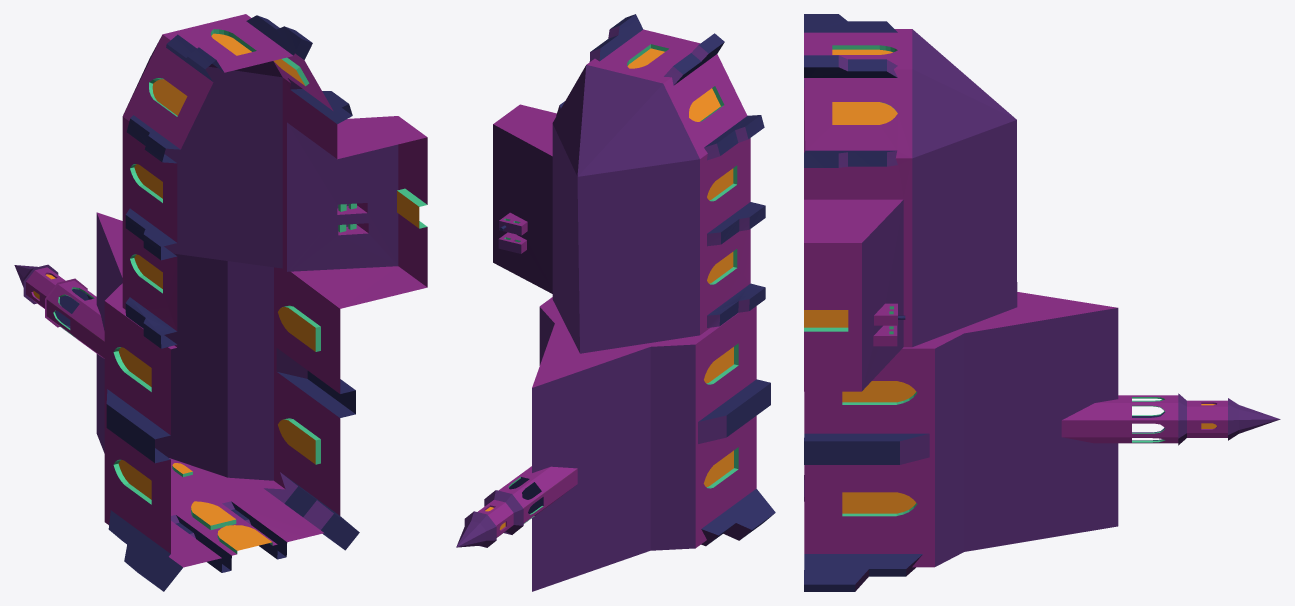
File: Kościół św Wacława Tier 3.fbx
3 renders of one model, left to right at view 1: azimuth 30°, elevation 25°; view 2: azimuth 150°, elevation 25°; view 3: azimuth 270°, elevation 25°, orthographic. The views are drawn at different scales.
Visible parts, largest first — view 1: Radom_3D_Sw_Waclaw_2; view 2: Radom_3D_Sw_Waclaw_2; view 3: Radom_3D_Sw_Waclaw_2.
Boxes of the visible parts, x1,y1,x2,y2 form: Radom_3D_Sw_Waclaw_2: (14,14,427,591); Radom_3D_Sw_Waclaw_2: (456,14,775,591); Radom_3D_Sw_Waclaw_2: (804,14,1280,591).
Size of the model in its own units: 2.89 by 5.2 by 4.35.
